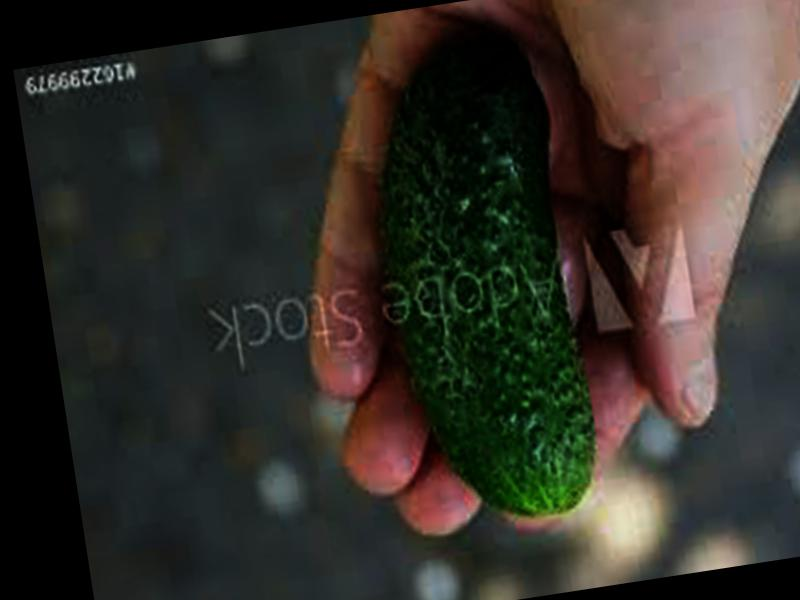Cucumber: (348, 26, 605, 530)
